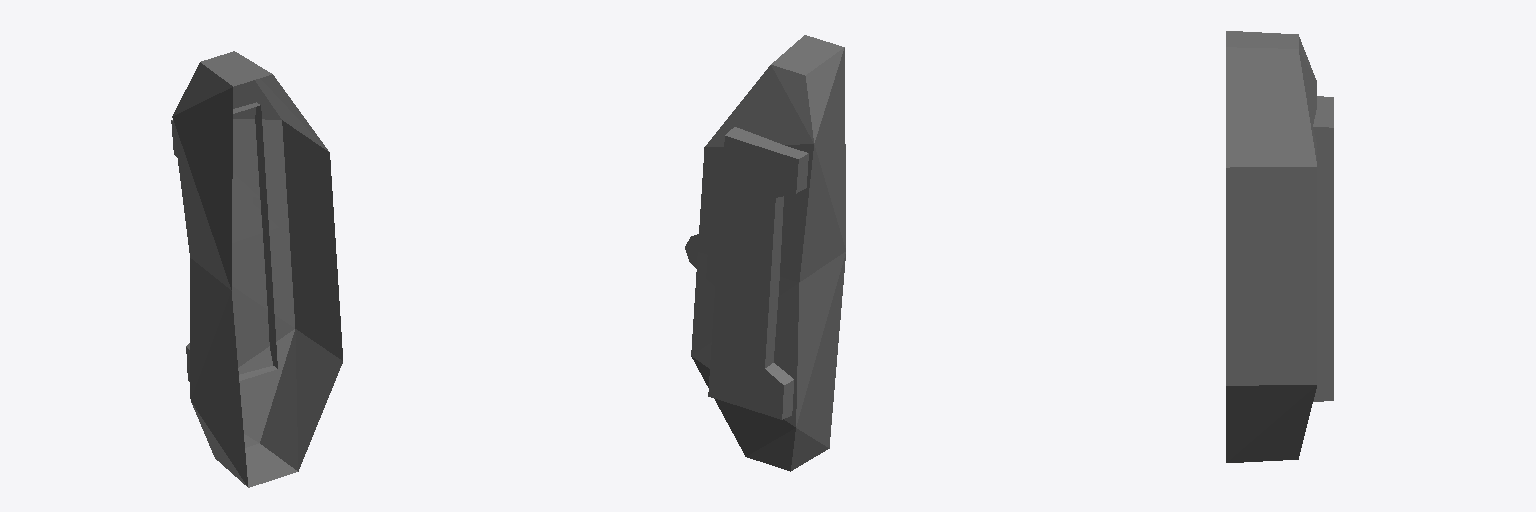
File: front_right_brake.obj
3 views of the same model, side by side, from view 1: azimuth 30°, elevation 25°; view 2: azimuth 150°, elevation 25°; view 3: azimuth 270°, elevation 25° (orthographic).
Parts seen in each view (by area): view 1: (null); view 2: (null); view 3: (null).
Boxes of the visible parts, <box> form: (null): <box>171,51,342,487</box>; (null): <box>685,35,845,471</box>; (null): <box>1226,31,1333,462</box>.
Size of the model in its own units: 347 by 1041 by 250.